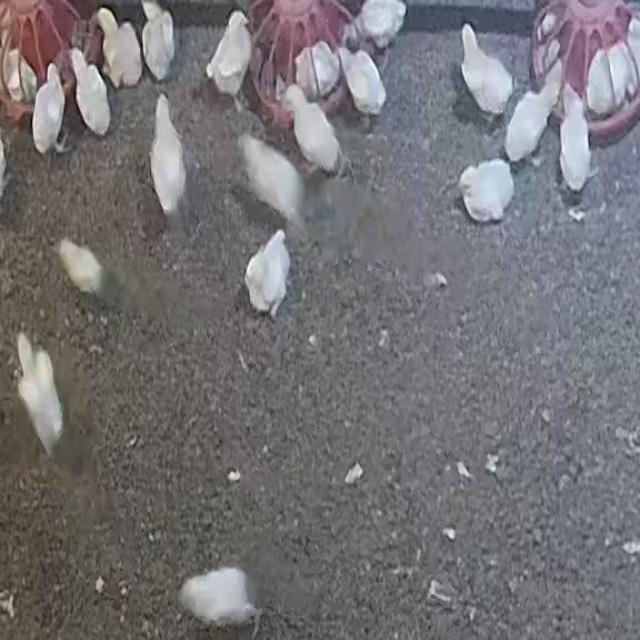chicken: (239, 134, 310, 232), (173, 561, 265, 636), (278, 84, 344, 179), (17, 332, 65, 457), (147, 88, 190, 220), (459, 22, 517, 118), (243, 226, 294, 323), (502, 78, 560, 162), (66, 45, 115, 143), (205, 10, 255, 104), (557, 86, 592, 193), (94, 10, 142, 88), (337, 46, 387, 118), (459, 159, 514, 223), (31, 64, 66, 154), (57, 237, 108, 298), (290, 37, 342, 94), (140, 1, 176, 81)
